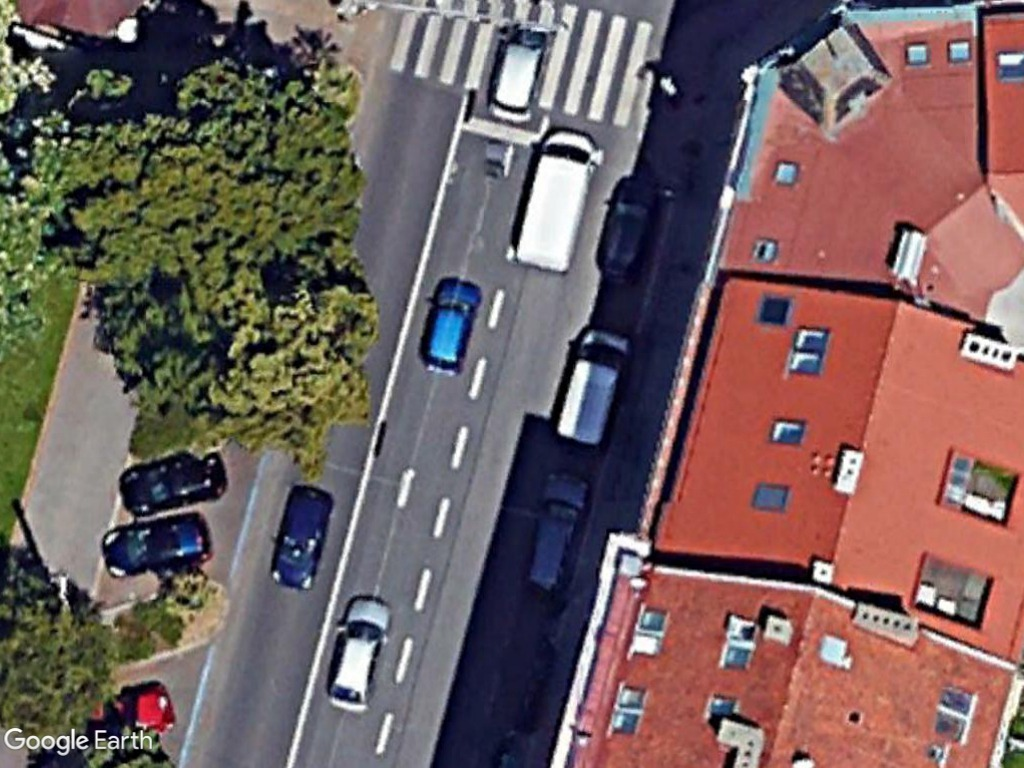car: (520, 467, 594, 600), (97, 508, 216, 585), (321, 591, 394, 716), (113, 442, 229, 519), (593, 172, 666, 284), (265, 477, 334, 594), (484, 17, 553, 125), (416, 273, 482, 381)
van: (505, 127, 603, 278), (550, 322, 632, 449)
